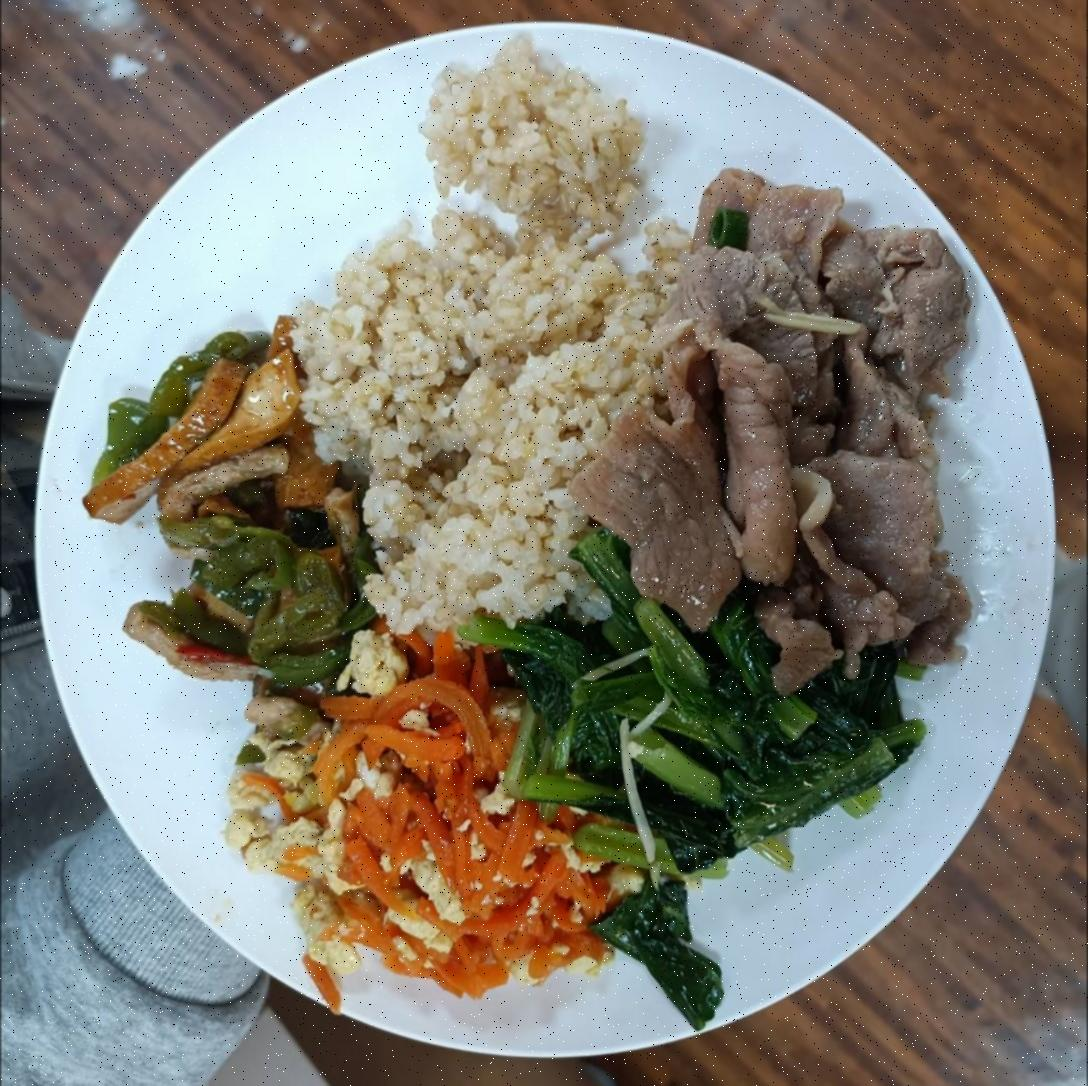brown rice: (292, 92, 652, 605)
garlic white meat: (664, 159, 969, 670)
plate: (46, 15, 1062, 1078)
side dish: (519, 604, 899, 900), (104, 349, 357, 740), (264, 681, 583, 982)
